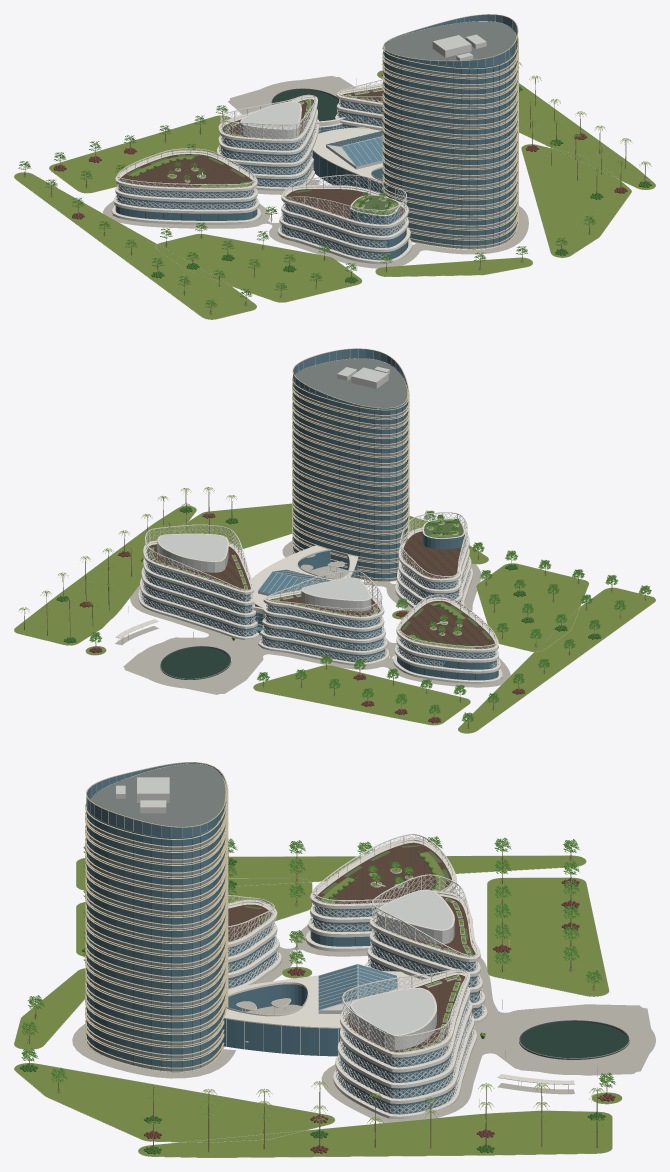
Rendered from library-lod1.glb.
3 views of the same model, one above another, from view 1: azimuth 30°, elevation 25°; view 2: azimuth 150°, elevation 25°; view 3: azimuth 270°, elevation 25° (orthographic). The views are drawn at different scales.
Parts seen in each view (by area): view 1: Landscape connected lawns | landscape lawn.001, Tower horizontal fins | champagne fins.001, Tower glazing | blue grey glass light.001, Tower spandrel panels | grey spandrel.001, Tower glazing | blue grey glass.001, Landscape forecourt paving | warm limestone.001, Tower glazing | blue grey glass dark.001, Petal right-garden | warm ceramic.001, Petal rear-garden | warm ceramic.001, Tower roof | roof gravel.001, Petal right-garden | blue grey glass.001, Petal rear-garden | blue grey glass.001 (+30 smaller); view 2: Landscape connected lawns | landscape lawn.001, Tower horizontal fins | champagne fins.001, Landscape forecourt paving | warm limestone.001, Tower glazing | blue grey glass light.001, Tower glazing | blue grey glass.001, Tower spandrel panels | grey spandrel.001, Petal front-right | blue grey glass.001, Petal front-left | blue grey glass.001, Landscape ground leaf canopy | leaf shadow.001, Tower roof | roof gravel.001, Petal front-left | warm ceramic.001, Petal front-right | warm ceramic.001 (+30 smaller); view 3: Landscape connected lawns | landscape lawn.001, Tower horizontal fins | champagne fins.001, Landscape forecourt paving | warm limestone.001, Tower glazing | blue grey glass light.001, Tower spandrel panels | grey spandrel.001, Tower glazing | blue grey glass.001, Petal front-left | warm ceramic.001, Tower roof | roof gravel.001, Tower glazing | blue grey glass dark.001, Atrium | blue grey glass.001, Petal front-left | blue grey glass.001, Landscape ground leaf canopy | leaf shadow.001 (+35 smaller).
Part boxes in pixels (<box>): Landscape connected lawns | landscape lawn.001: <box>14,70,655,319</box>; Tower horizontal fins | champagne fins.001: <box>382,14,518,249</box>; Tower glazing | blue grey glass light.001: <box>383,14,517,245</box>; Tower spandrel panels | grey spandrel.001: <box>383,57,515,248</box>; Tower glazing | blue grey glass.001: <box>383,25,517,245</box>; Landscape forecourt paving | warm limestone.001: <box>103,76,528,268</box>; Tower glazing | blue grey glass dark.001: <box>383,29,517,244</box>; Petal right-garden | warm ceramic.001: <box>111,150,261,224</box>; Petal rear-garden | warm ceramic.001: <box>277,185,412,264</box>; Tower roof | roof gravel.001: <box>384,21,516,60</box>; Petal right-garden | blue grey glass.001: <box>115,185,257,220</box>; Petal rear-garden | blue grey glass.001: <box>281,189,408,260</box>; Landscape connected lawns | landscape lawn.001: <box>14,503,655,733</box>; Tower horizontal fins | champagne fins.001: <box>292,348,409,581</box>; Landscape forecourt paving | warm limestone.001: <box>115,541,510,694</box>; Tower glazing | blue grey glass light.001: <box>293,349,408,578</box>; Tower glazing | blue grey glass.001: <box>293,365,408,578</box>; Tower spandrel panels | grey spandrel.001: <box>293,389,407,581</box>; Petal front-right | blue grey glass.001: <box>262,604,385,662</box>; Petal front-left | blue grey glass.001: <box>142,562,255,636</box>; Landscape ground leaf canopy | leaf shadow.001: <box>90,510,651,722</box>; Tower roof | roof gravel.001: <box>295,358,407,407</box>; Petal front-left | warm ceramic.001: <box>138,540,259,640</box>; Petal front-right | warm ceramic.001: <box>258,590,388,665</box>; Landscape connected lawns | landscape lawn.001: <box>14,855,621,1157</box>; Tower horizontal fins | champagne fins.001: <box>85,762,228,1072</box>; Landscape forecourt paving | warm limestone.001: <box>72,893,655,1122</box>; Tower glazing | blue grey glass light.001: <box>86,762,225,1067</box>; Tower spandrel panels | grey spandrel.001: <box>87,821,222,1071</box>; Tower glazing | blue grey glass.001: <box>86,772,225,1067</box>; Petal front-left | warm ceramic.001: <box>333,970,476,1119</box>; Tower roof | roof gravel.001: <box>90,763,225,826</box>; Tower glazing | blue grey glass dark.001: <box>86,768,225,1066</box>; Atrium | blue grey glass.001: <box>223,984,340,1056</box>; Petal front-left | blue grey glass.001: <box>338,1002,471,1114</box>; Landscape ground leaf canopy | leaf shadow.001: <box>21,836,615,1087</box>.
Bounding box in the file's own units: 218 × 84.16 × 197.
